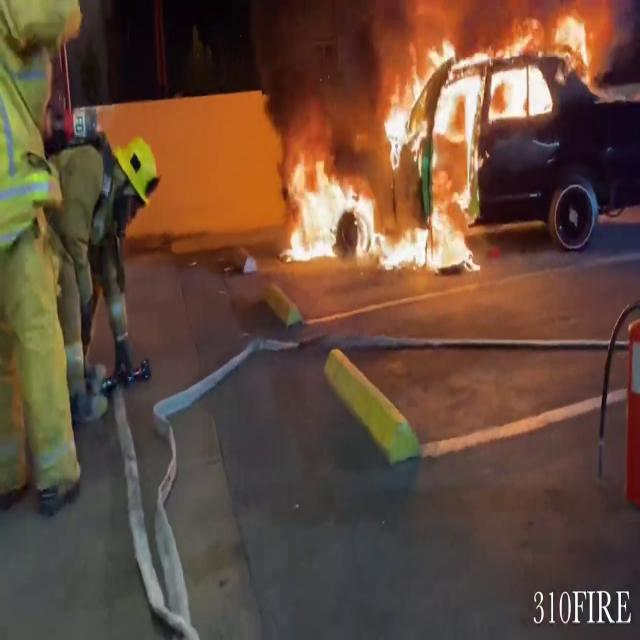Fire: (271, 2, 607, 274)
